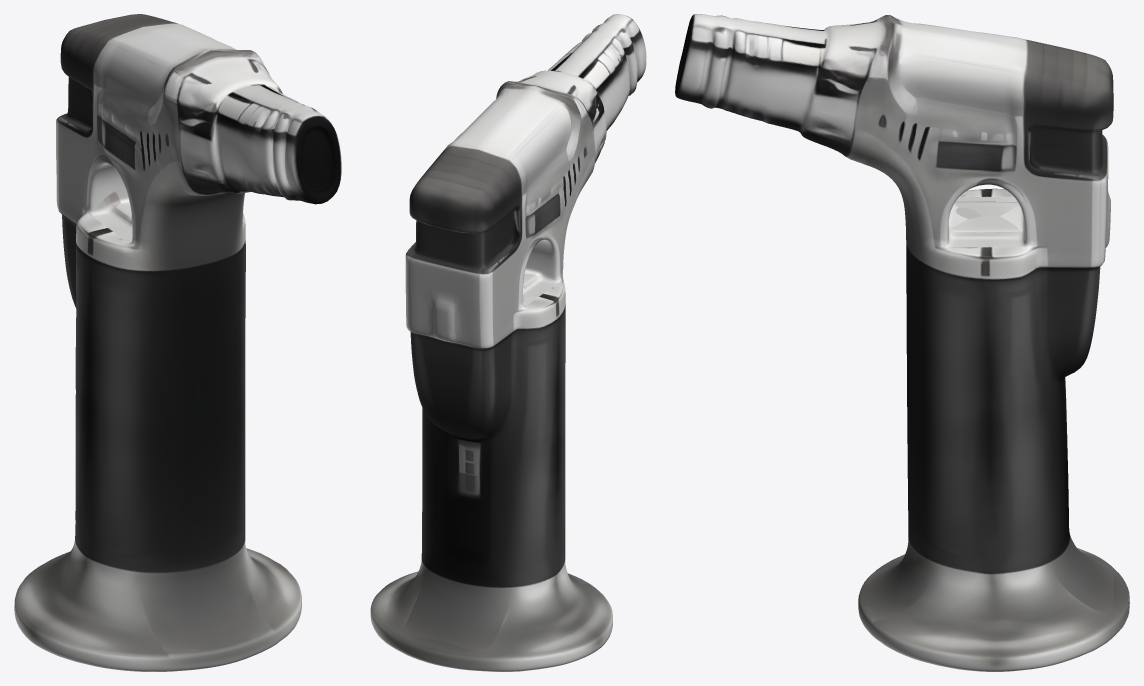
The model's file is base_basic_pbr.fbx.
3 views of the same model, side by side, from view 1: azimuth 30°, elevation 25°; view 2: azimuth 150°, elevation 25°; view 3: azimuth 270°, elevation 25° (orthographic). The views are drawn at different scales.
Visible parts, largest first — view 1: model; view 2: model; view 3: model.
Boxes of the visible parts, x1=… form: model: x1=14, y1=14, x2=341, y2=671; model: x1=370, y1=14, x2=646, y2=671; model: x1=675, y1=14, x2=1129, y2=671.
Size of the model in its own units: 81.91 by 191 by 131.
1 material, 1 textured.
